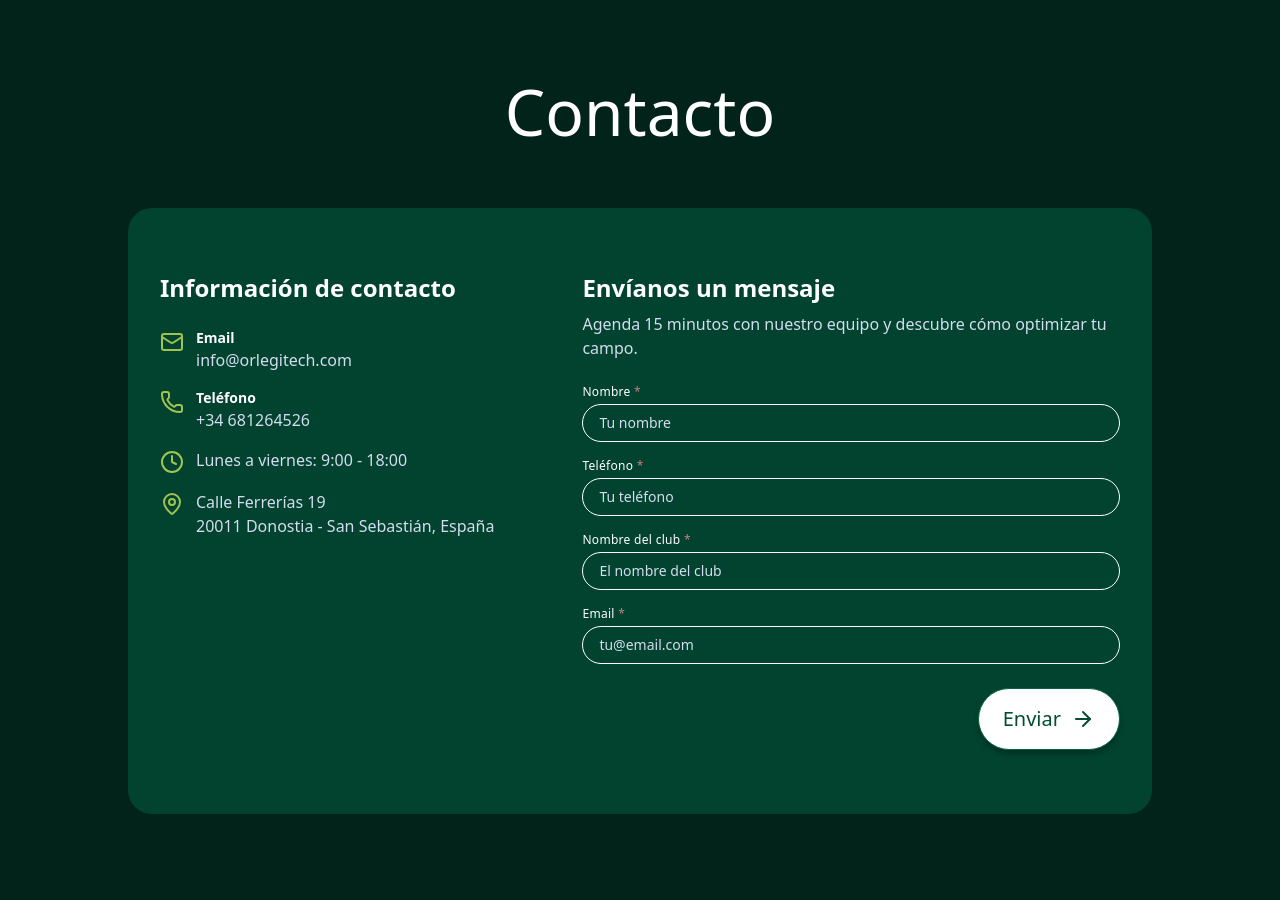
Test: ContactUs › builds the mailto with the active locale translator and the form data
The image size is (1280, 900).
Type "Jane Doe" into the field labelled "Nombre *".
click(851, 423); type("Jane Doe")  # box [582, 404, 1120, 442]
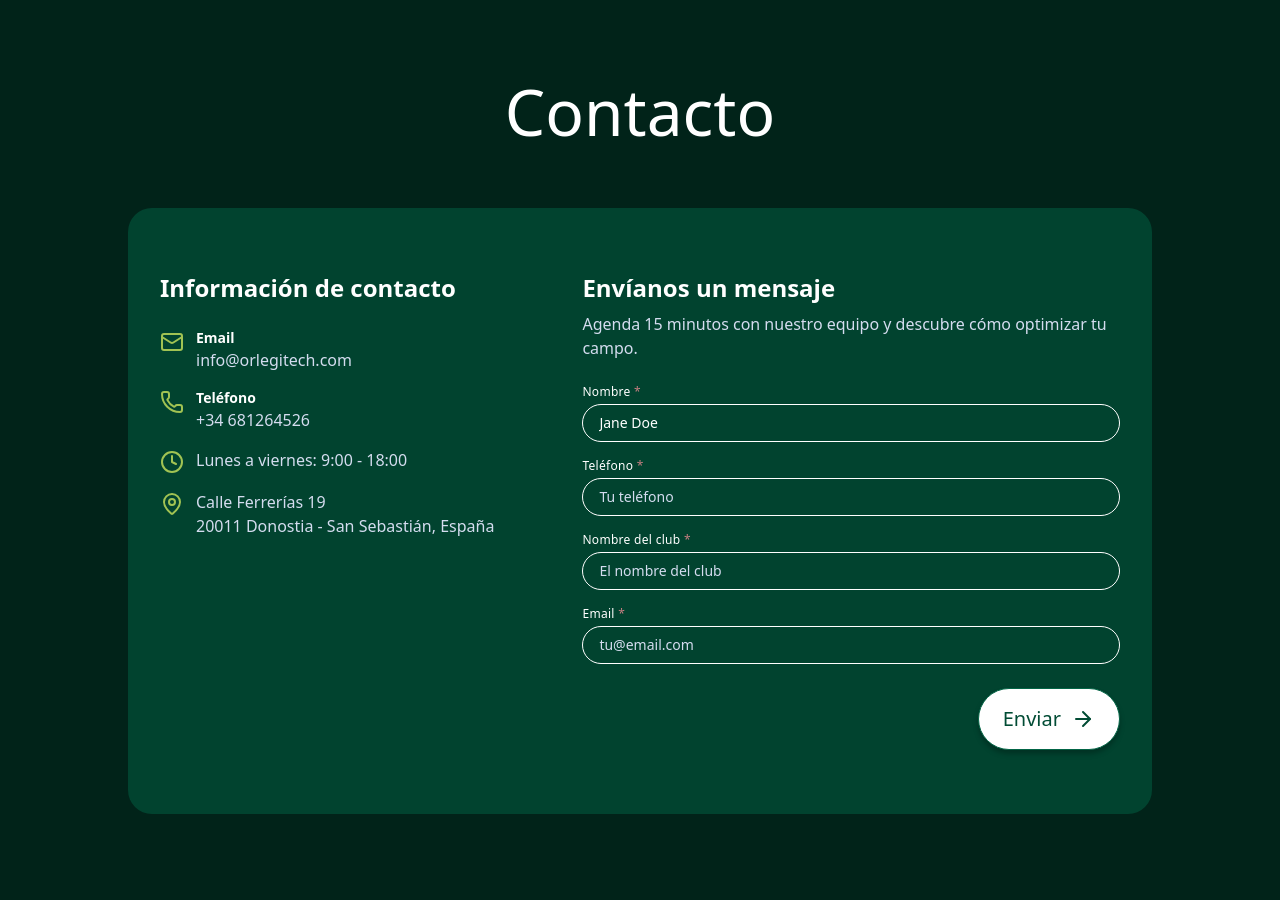
Type "600123456" into the field labelled "Teléfono *".
click(851, 497); type("600123456")  # box [582, 478, 1120, 516]
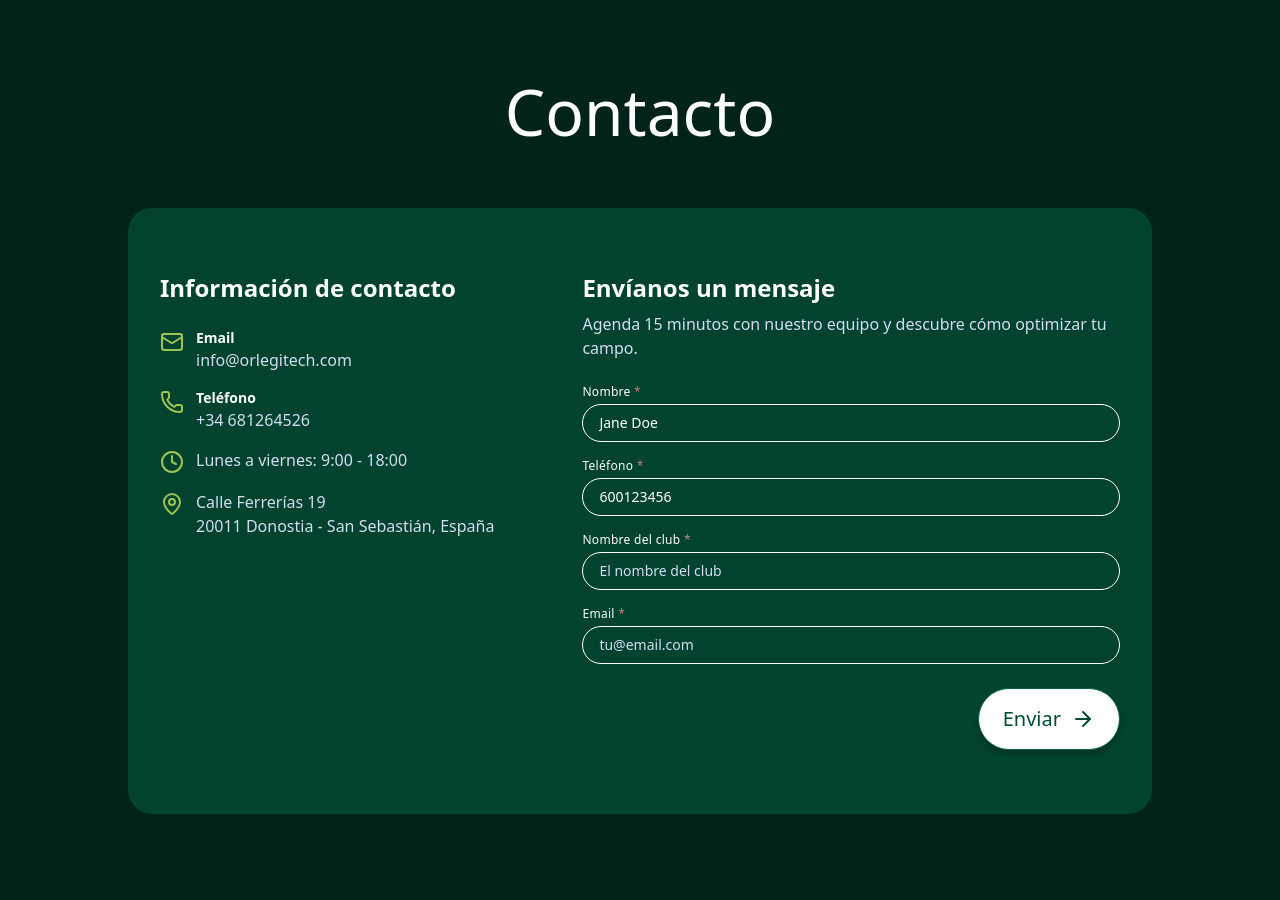
Type "Club Ejemplo" into the field labelled "Nombre del club *".
click(851, 571); type("Club Ejemplo")  # box [582, 552, 1120, 590]
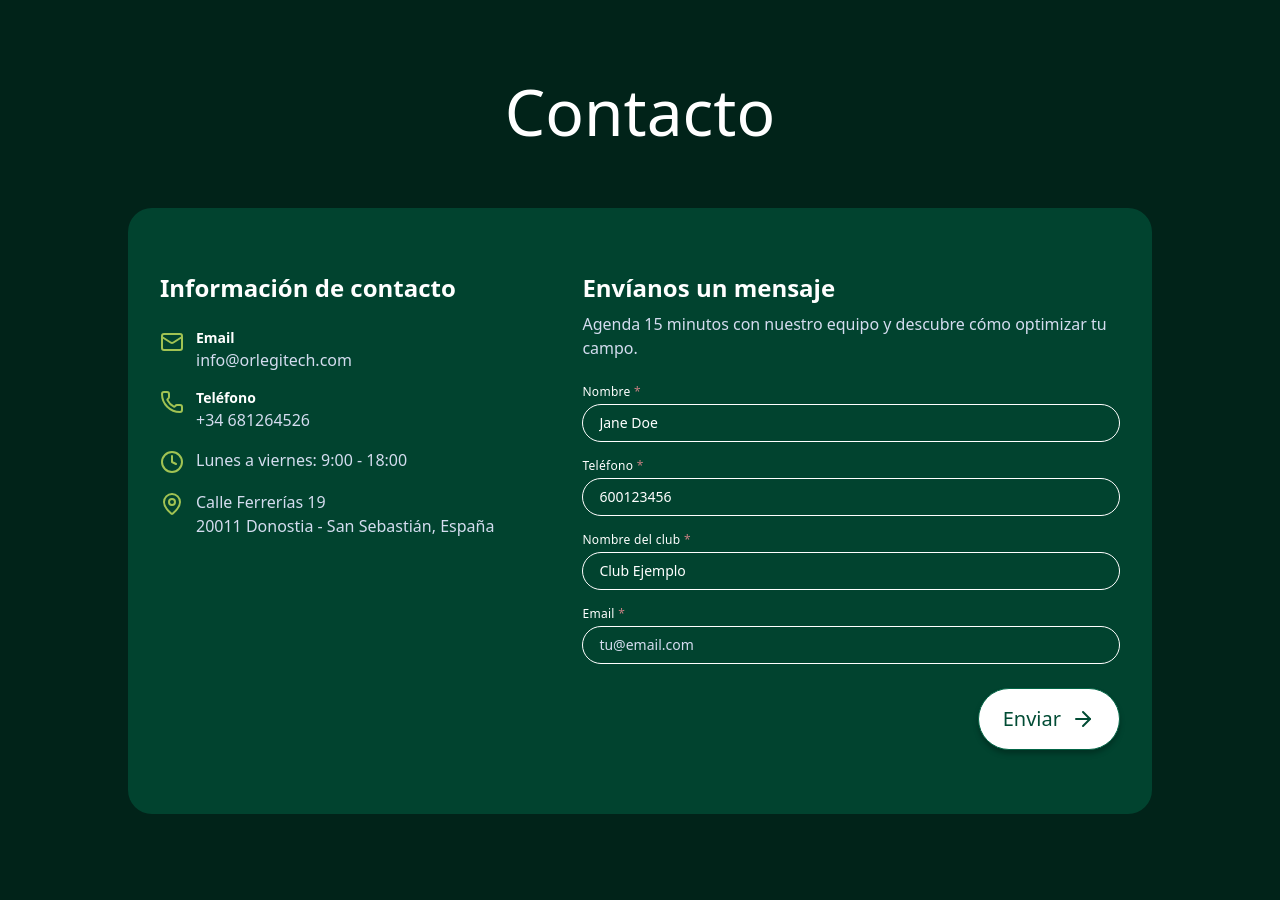
Type "jane@example.com" into the field labelled "Email *".
click(851, 645); type("jane@example.com")  # box [582, 626, 1120, 664]
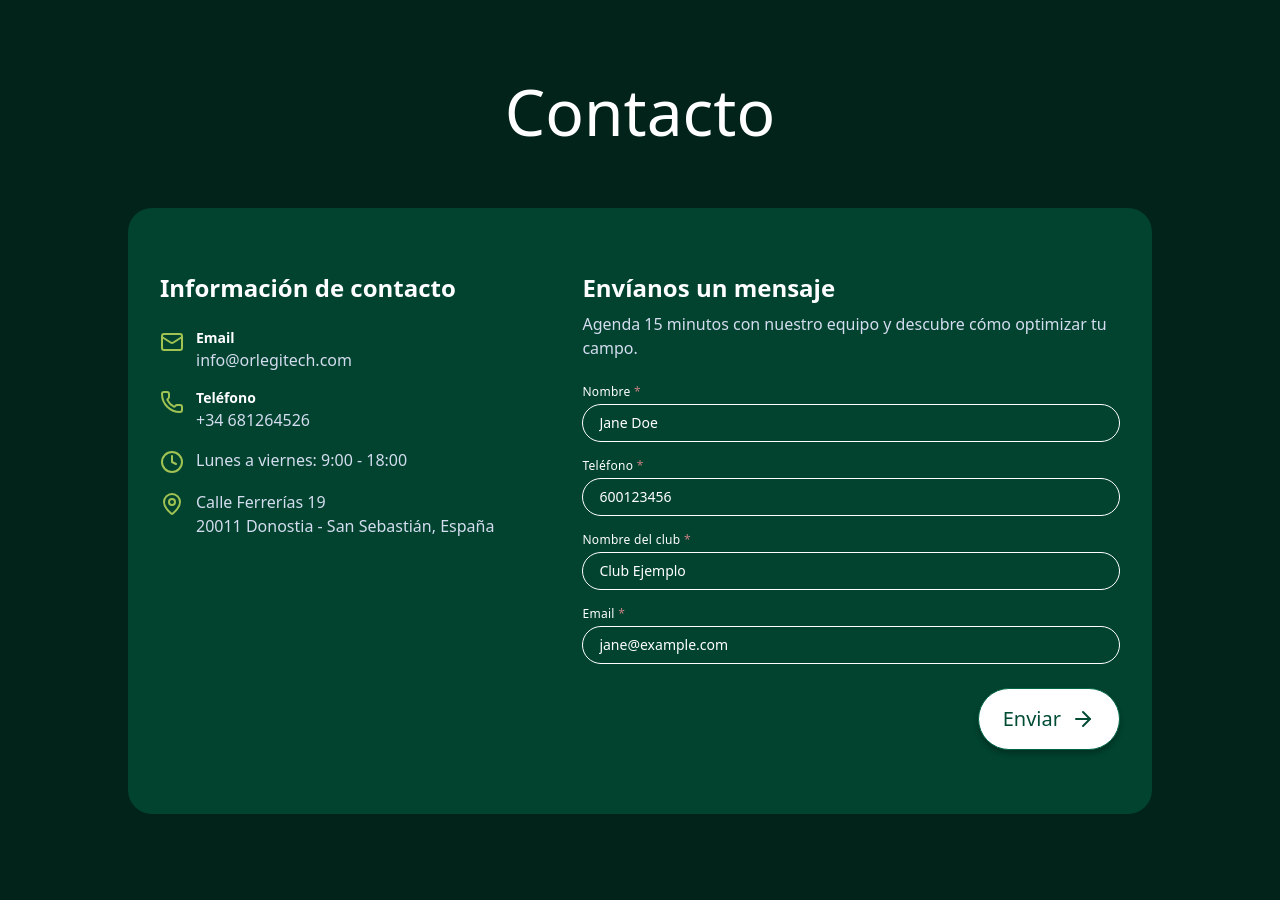
Click the button "Enviar".
click(1049, 719)  # box [978, 688, 1120, 750]
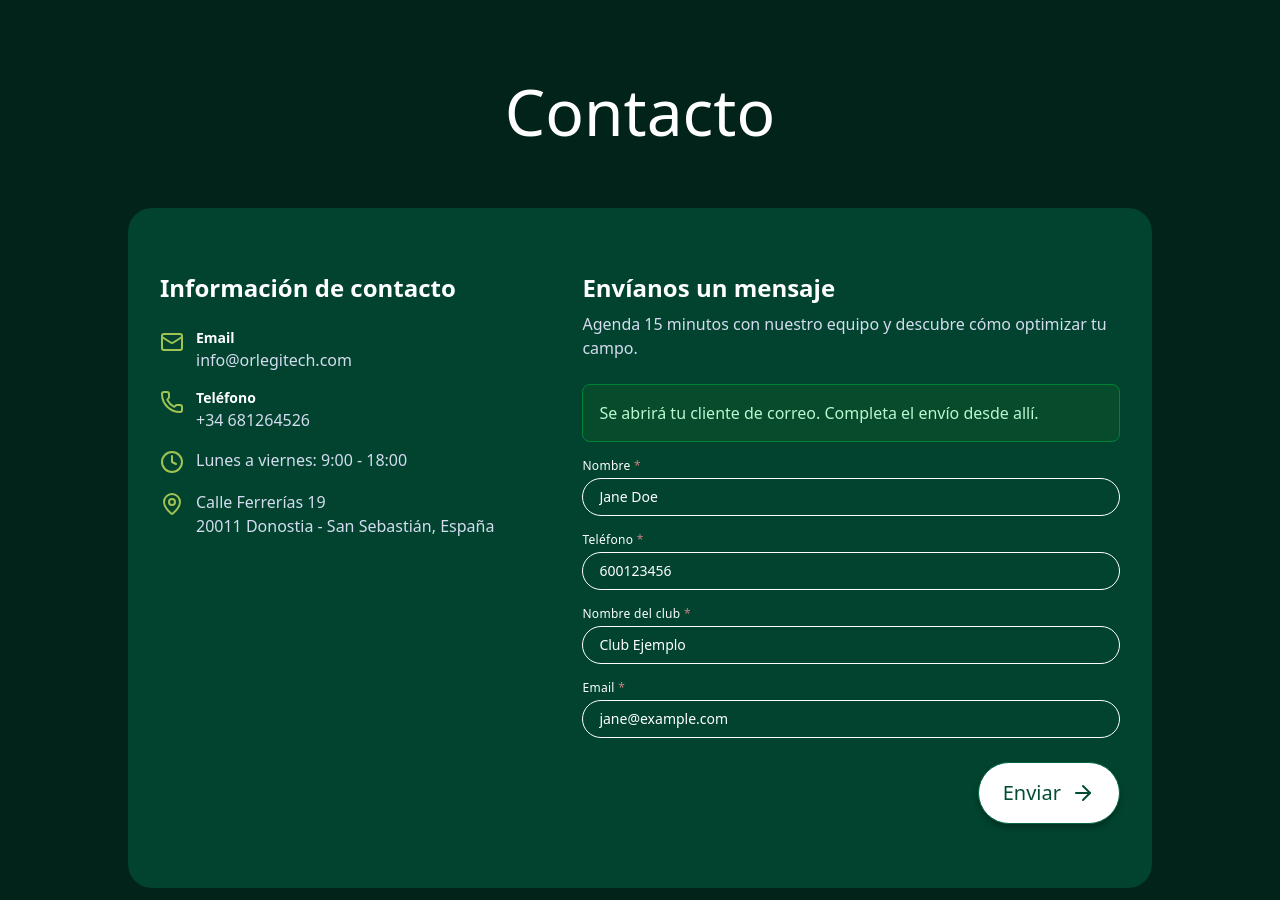
Expected: the text "Se abrirá tu cliente de correo. Completa el envío desde allí." is shown, [582, 384, 1120, 442]
